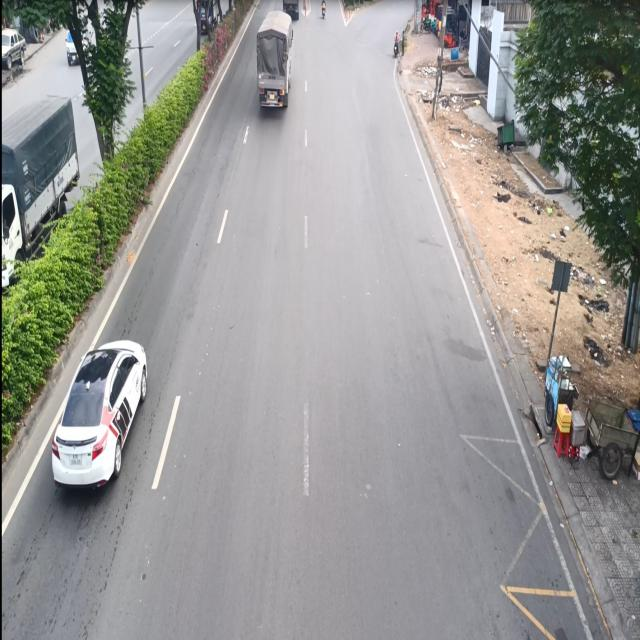car: (51, 335, 152, 495)
truck: (250, 3, 295, 123)
